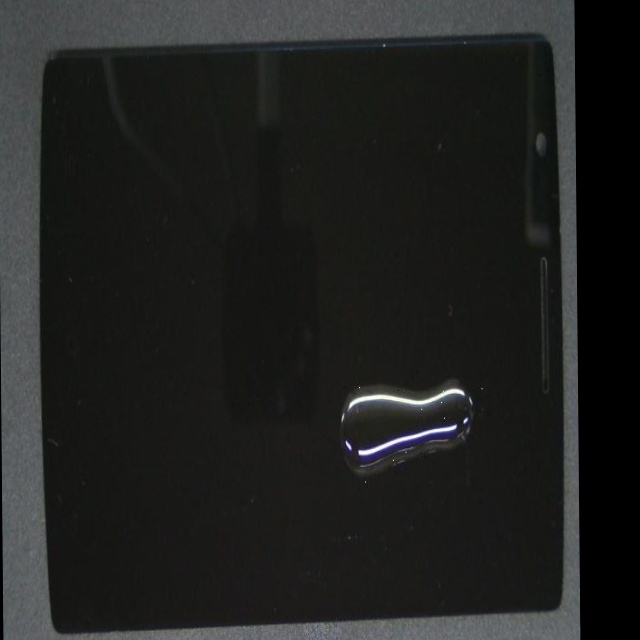oil: (229, 142, 564, 601)
